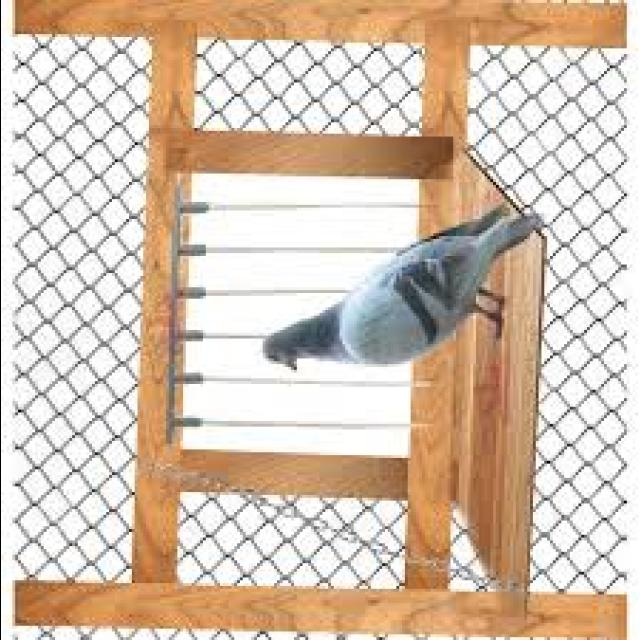pigeon: (243, 212, 553, 383)
